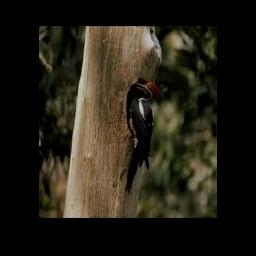Woodpecker: (125, 82, 159, 192)
